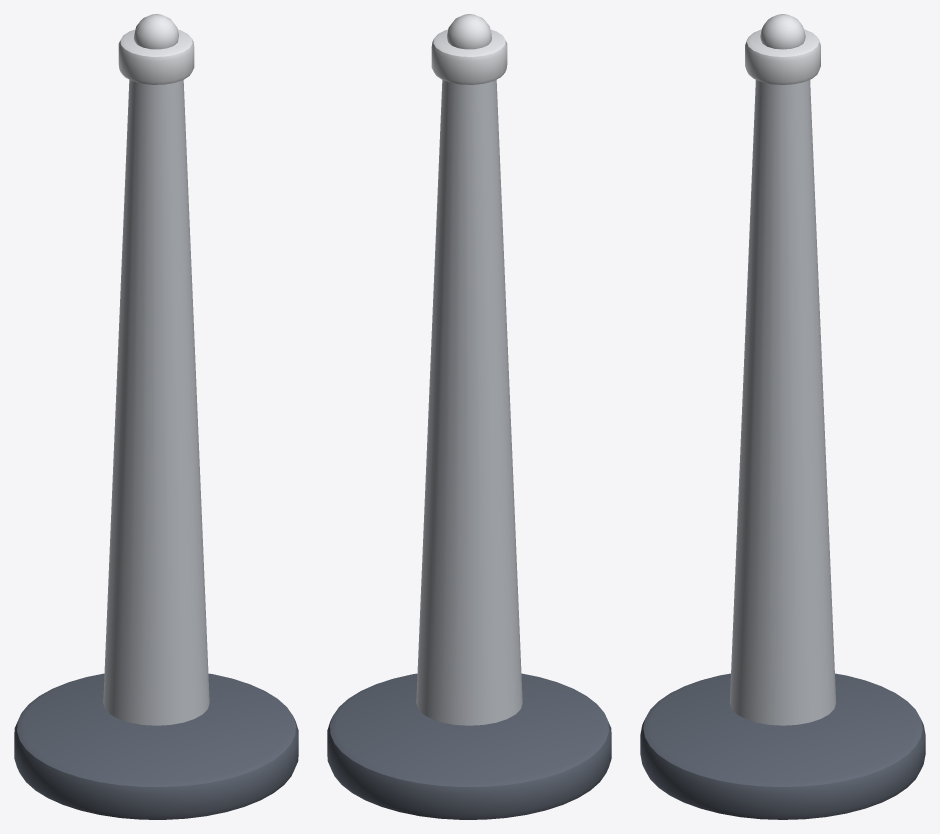
Rendered from gyro_stand.glb.
The picture shows the model from 3 angles, left to right: view 1: azimuth 30°, elevation 25°; view 2: azimuth 150°, elevation 25°; view 3: azimuth 270°, elevation 25°; orthographic projection.
Visible parts, largest first — view 1: Cone; view 2: Cone; view 3: Cone.
Part boxes in pixels (<box>): Cone: <box>14,14,298,819</box>; Cone: <box>327,14,611,819</box>; Cone: <box>640,14,925,819</box>.
Size of the model in its own units: 1.5 by 4.34 by 1.5.
